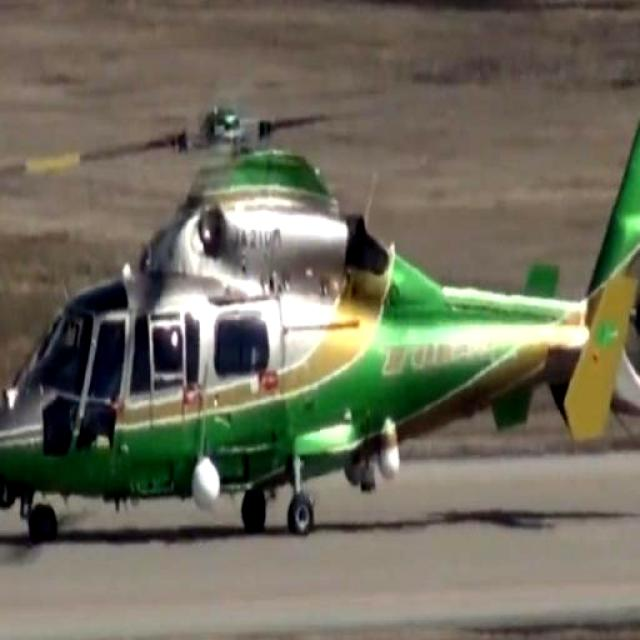drone: (0, 0, 640, 532)
